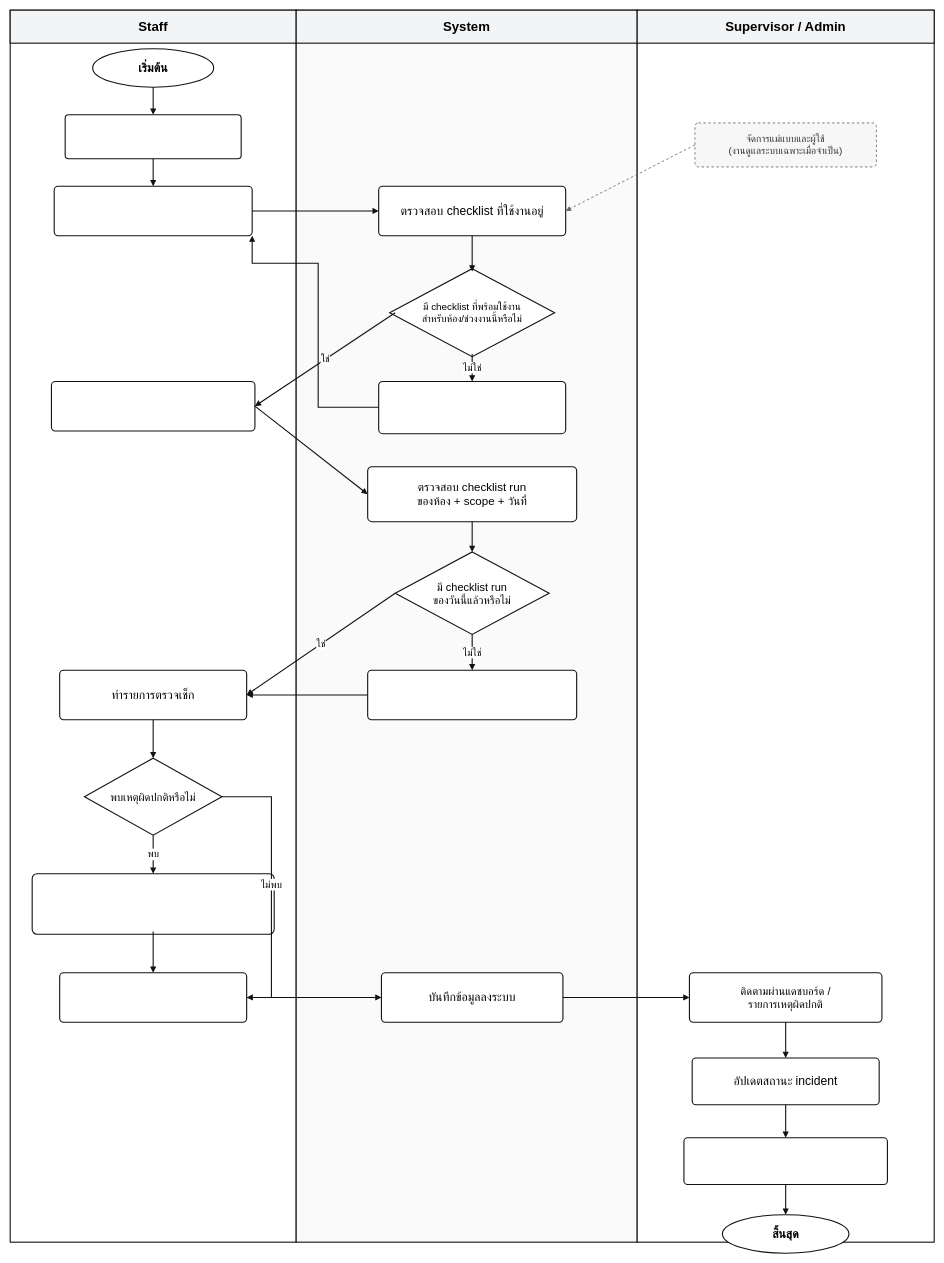
This 944x1263 diagram has some shape labels left out. Each missing label, with the centre of its shape:
"ทบทวนประวัติและเอกสารสรุป" goes at (785,1161).
"สร้าง checklist run อัตโนมัติ" goes at (472,694).
"สร้าง incident (ห้อง + หมวดหมู่ + ความรุนแรง + รายละเอียด + หลักฐานเมื่อมี)" goes at (152,903).
"ส่ง checklist" goes at (153,997).
"เข้าสู่ระบบ" goes at (152,136).
"เปิดหน้า checklist ของวัน" goes at (153,406).
"เลือกห้องและช่วงงานที่กำลังตรวจ" goes at (152,210).
"แสดงสถานะพร้อมคำแนะนำ และกลับไปเลือกใหม่" goes at (472,407).
